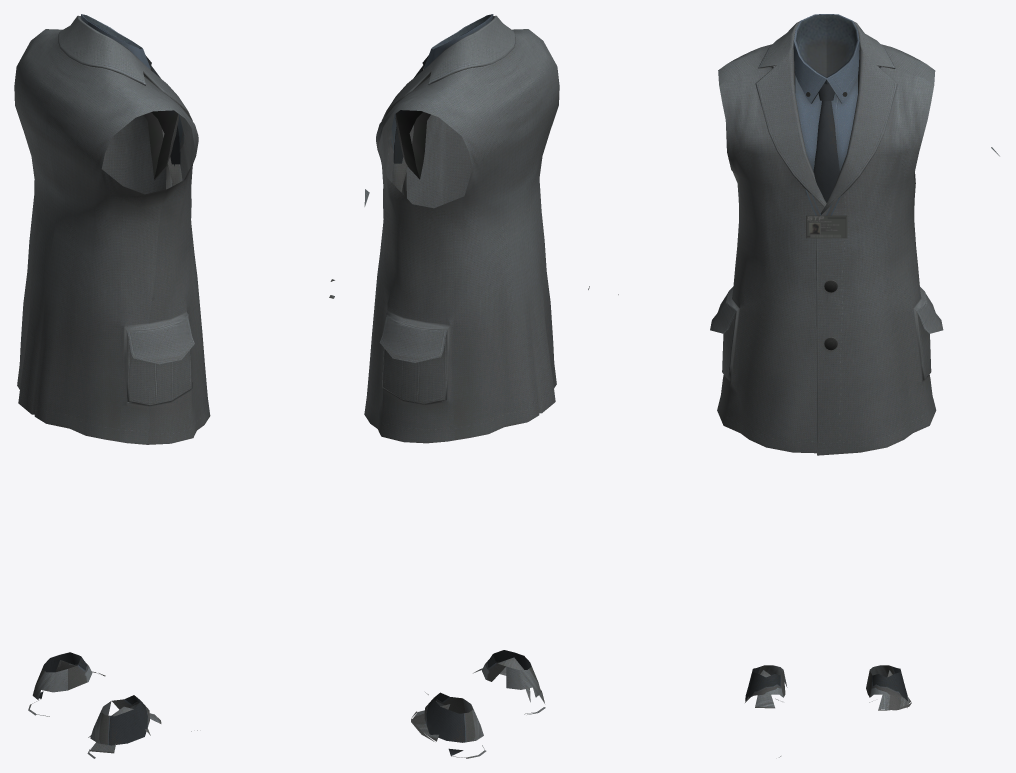
File: cientifico_torso.obj
3 views of the same model, side by side, from view 1: azimuth 30°, elevation 25°; view 2: azimuth 150°, elevation 25°; view 3: azimuth 270°, elevation 25° (orthographic).
Visible parts, largest first — view 1: cientificoA_cuerpo_arriba_Material.002; view 2: cientificoA_cuerpo_arriba_Material.002; view 3: cientificoA_cuerpo_arriba_Material.002.
Part boxes in pixels (x1,y1,x2,y2): cientificoA_cuerpo_arriba_Material.002: (14,14,334,758); cientificoA_cuerpo_arriba_Material.002: (364,14,559,758); cientificoA_cuerpo_arriba_Material.002: (588,14,999,757).
Size of the model in its own units: 0.3545 by 1.22 by 0.6501.
